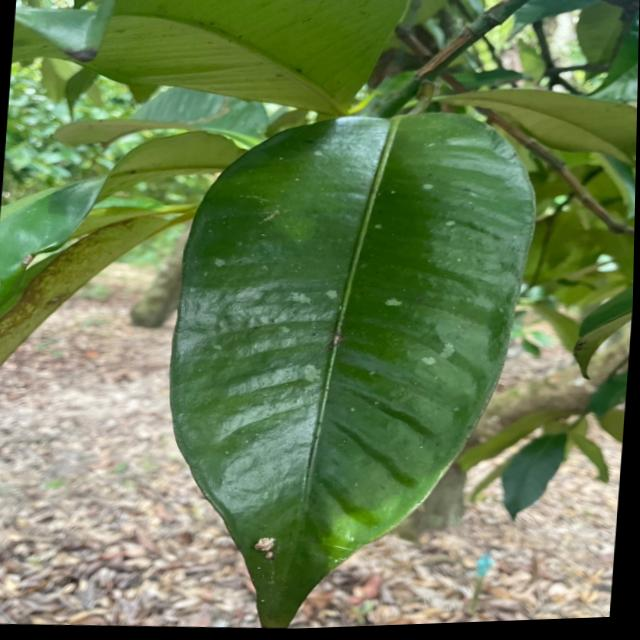Leaf Spot: (251, 257, 486, 407), (403, 153, 481, 244)
